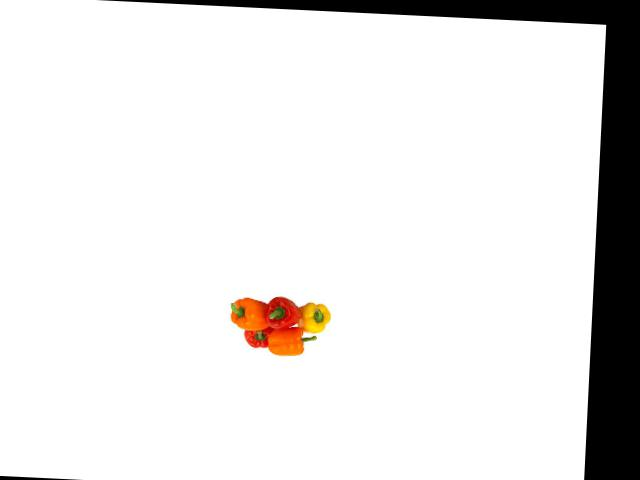bell_pepper: (220, 293, 272, 335)
